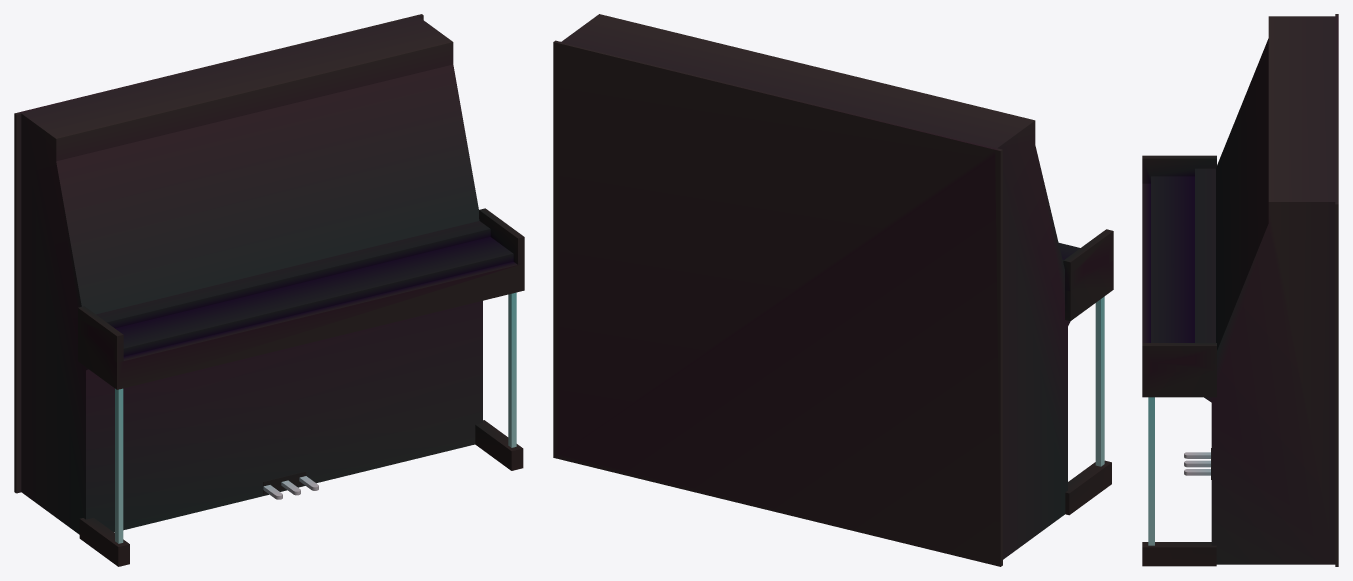
The picture shows the model from 3 angles, left to right: view 1: azimuth 30°, elevation 25°; view 2: azimuth 150°, elevation 25°; view 3: azimuth 270°, elevation 25°; orthographic projection. The views are drawn at different scales.
Visible parts, largest first — view 1: case, shelf, foot.001, support.001, support, foot; view 2: case, shelf, support.001, foot.001; view 3: case, shelf, foot, support.
Part boxes in pixels (bbox=[...]): case: bbox=[14, 14, 482, 534]; shelf: bbox=[78, 208, 524, 389]; foot.001: bbox=[79, 517, 129, 566]; support.001: bbox=[115, 388, 123, 543]; support: bbox=[508, 292, 516, 447]; foot: bbox=[475, 420, 523, 470]; case: bbox=[553, 14, 1070, 566]; shelf: bbox=[1058, 229, 1113, 320]; support.001: bbox=[1095, 296, 1104, 466]; foot.001: bbox=[1065, 460, 1111, 515]; case: bbox=[1204, 14, 1338, 566]; shelf: bbox=[1142, 155, 1216, 397]; foot: bbox=[1142, 542, 1216, 566]; support: bbox=[1148, 397, 1154, 545].
Size of the model in its own units: 1.5 by 1.33 by 0.656.
